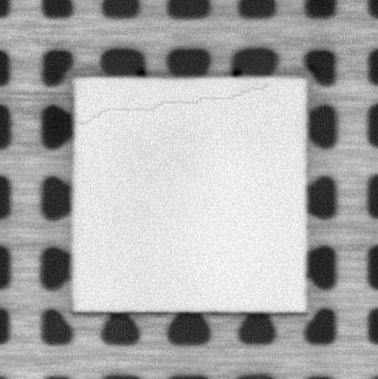DIE_CRACK: (84, 84, 266, 126)
